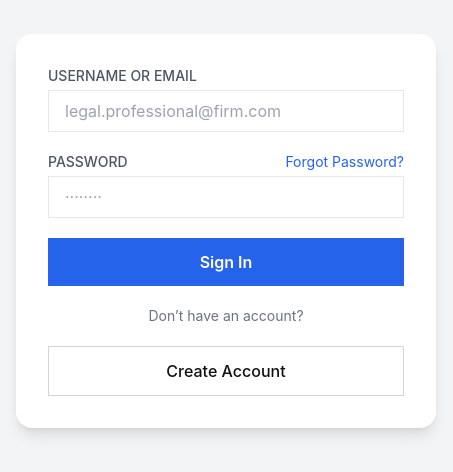
LoginPage › shows error for invalid credentials
Type "user@firm.com" into the field with placeholder "legal.professional@firm.com" at (226, 111), box [48, 90, 404, 132]
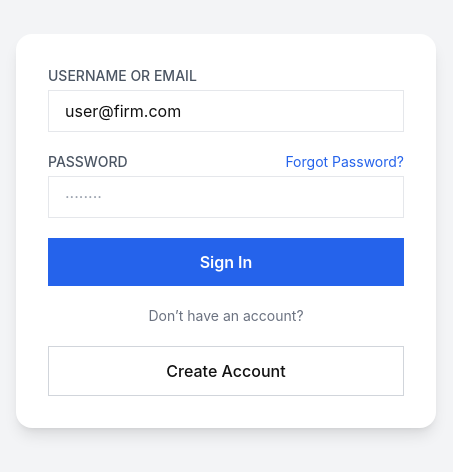
Type "wrongpass" into the password field with placeholder "········" at (226, 197), box [48, 176, 404, 218]
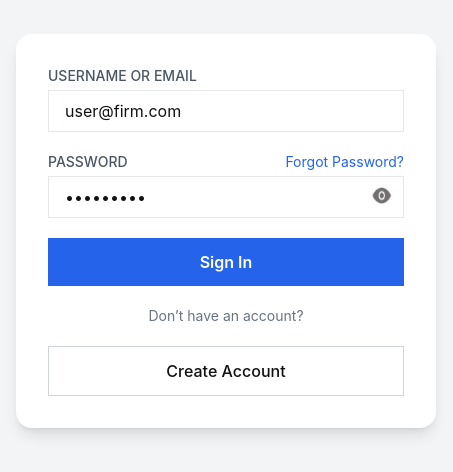
Click the button "Sign In" at (226, 262), box [48, 238, 404, 286]
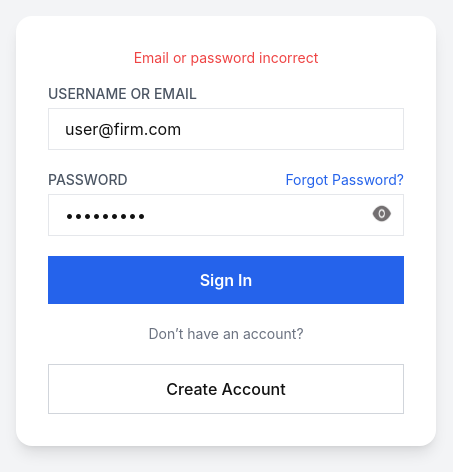
Check: the text "Email or password incorrect" is shown, box [134, 49, 318, 66]
